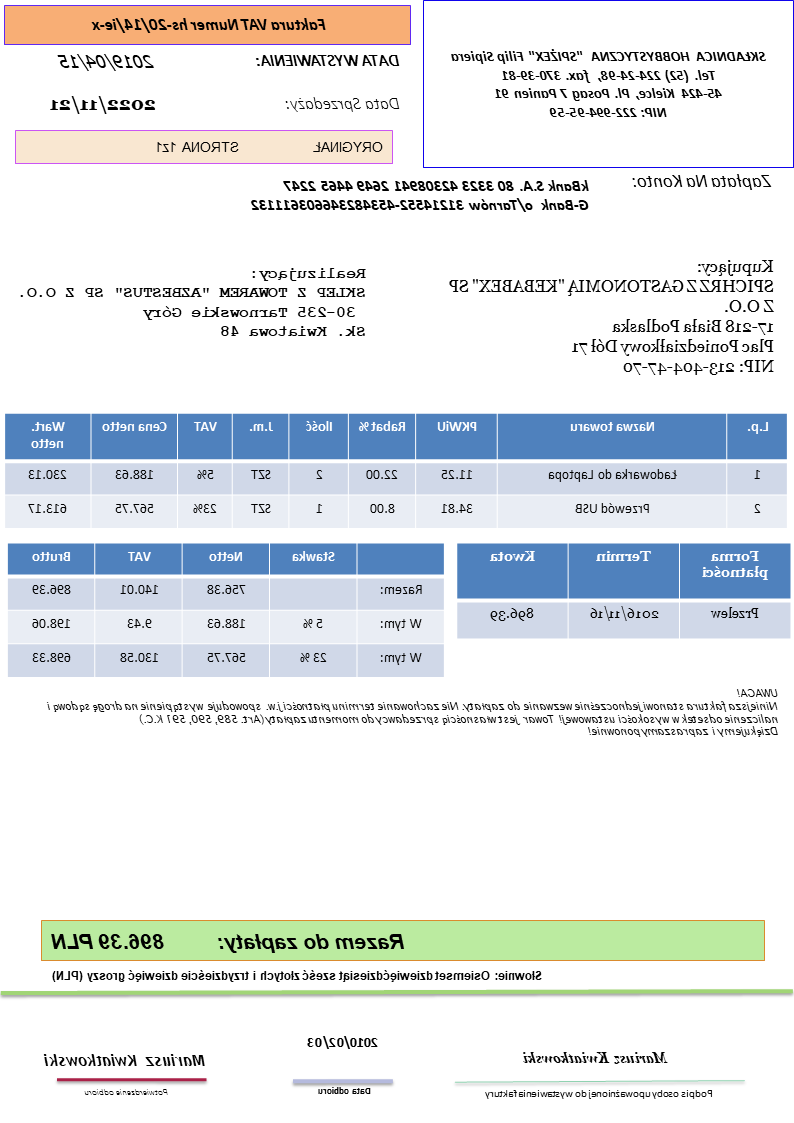Table: (2, 411, 790, 532), (8, 540, 446, 678), (457, 541, 792, 640)
TextBox: (42, 683, 782, 740), (443, 253, 780, 377), (19, 263, 371, 342), (449, 46, 768, 120), (248, 175, 593, 213), (47, 964, 545, 987), (47, 926, 408, 956), (91, 14, 329, 35), (482, 1083, 717, 1104), (152, 136, 386, 157), (38, 1050, 208, 1072), (520, 1045, 671, 1068), (629, 170, 777, 191), (254, 49, 402, 69), (284, 92, 403, 115), (49, 94, 160, 118), (56, 50, 158, 72), (82, 1083, 171, 1102), (306, 1032, 382, 1053), (315, 1083, 375, 1097)
